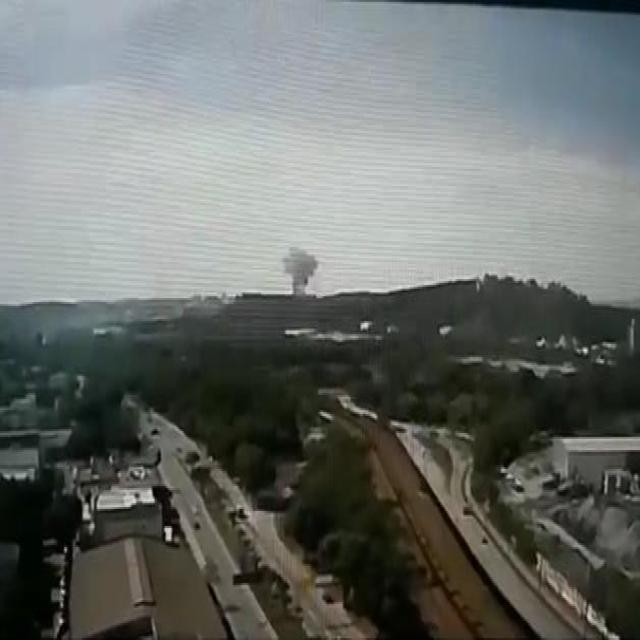Smoke: (277, 246, 326, 296)
